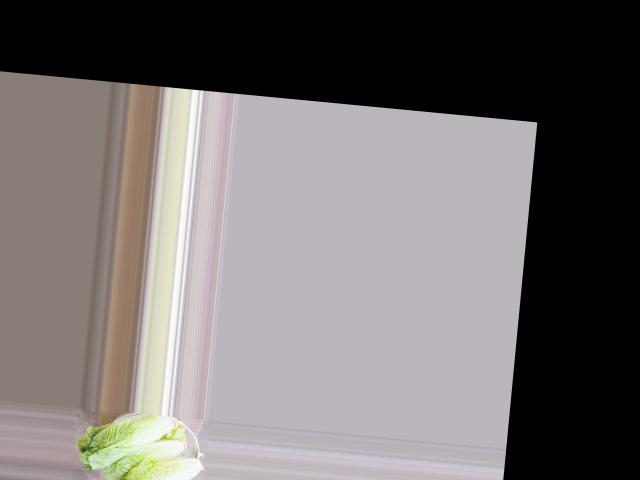lettuce: (78, 407, 185, 479)
